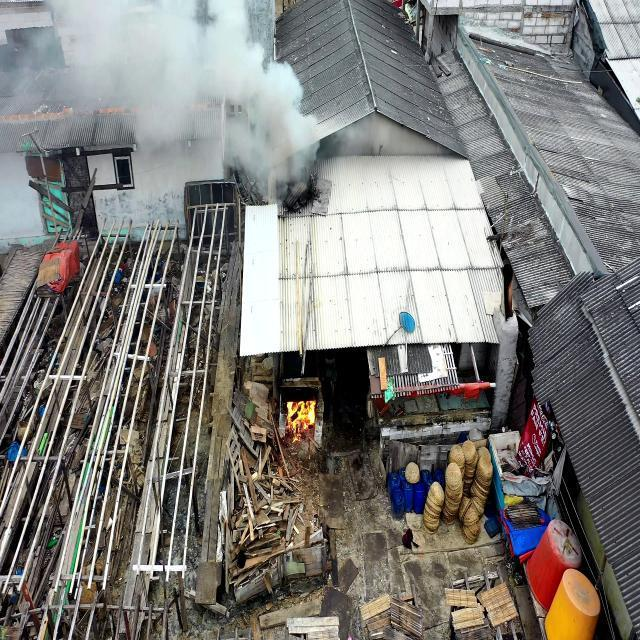Fire: (282, 398, 314, 440)
Smoke: (0, 0, 319, 210)
